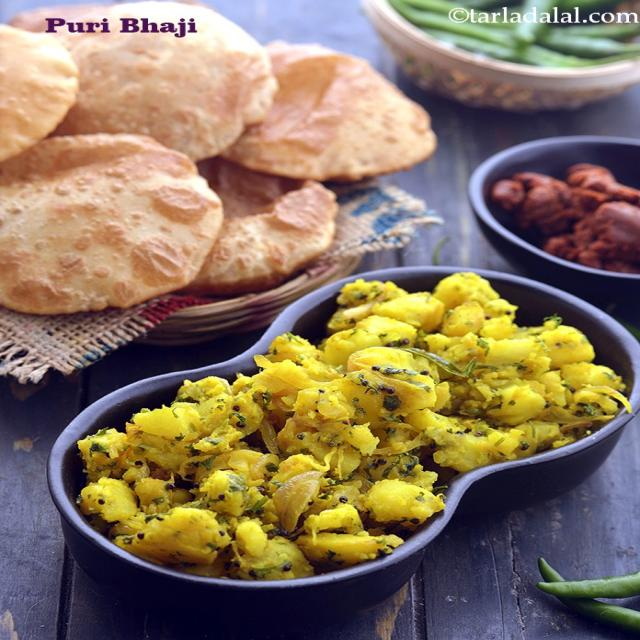poori: (0, 129, 221, 317), (52, 0, 280, 168), (246, 34, 440, 187), (200, 158, 344, 300), (0, 18, 83, 168)
